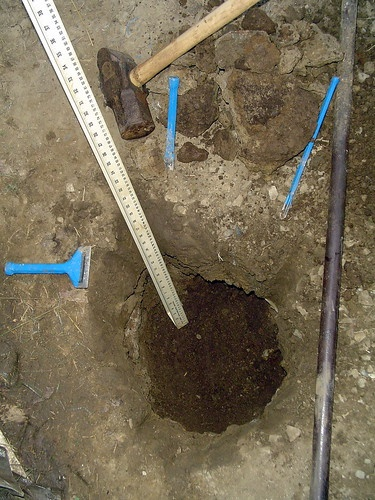hammer: (91, 5, 262, 144)
